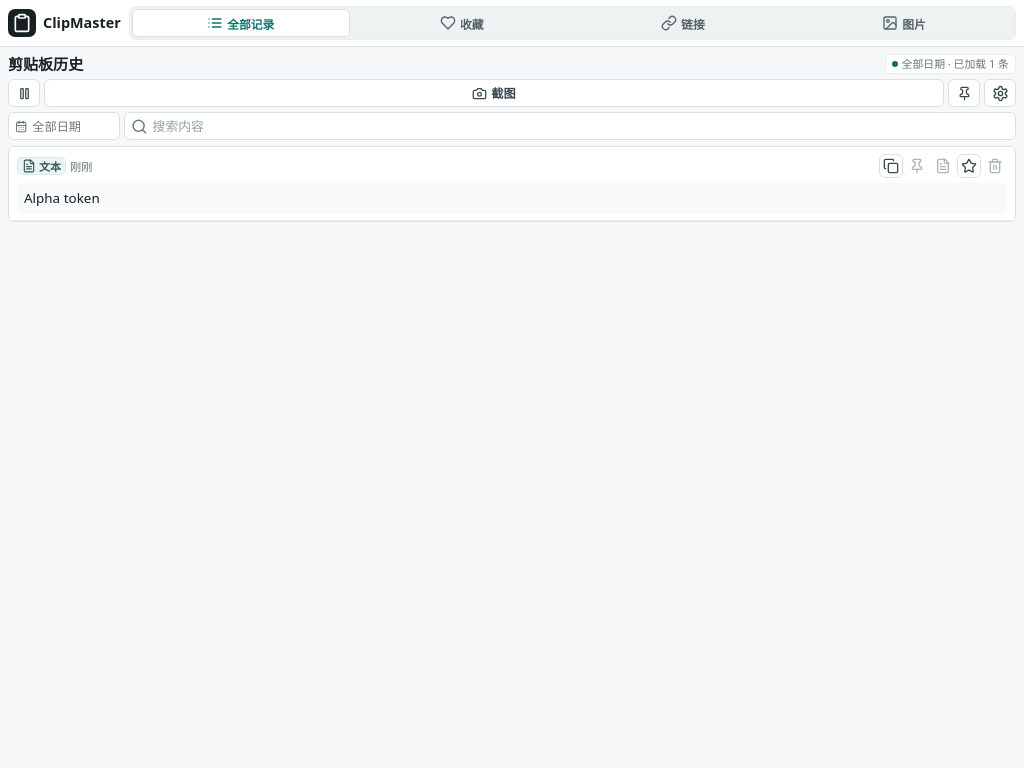
it: App UI › deletes ordinary records immediately without a confirmation dialog
This screenshot has width=1024, height=768.
Check: the button "Alpha token" is shown, box [17,183,1007,213]
Step 1. Click the button named "删除 Alpha token" → [995, 166], box [983,154,1007,178]
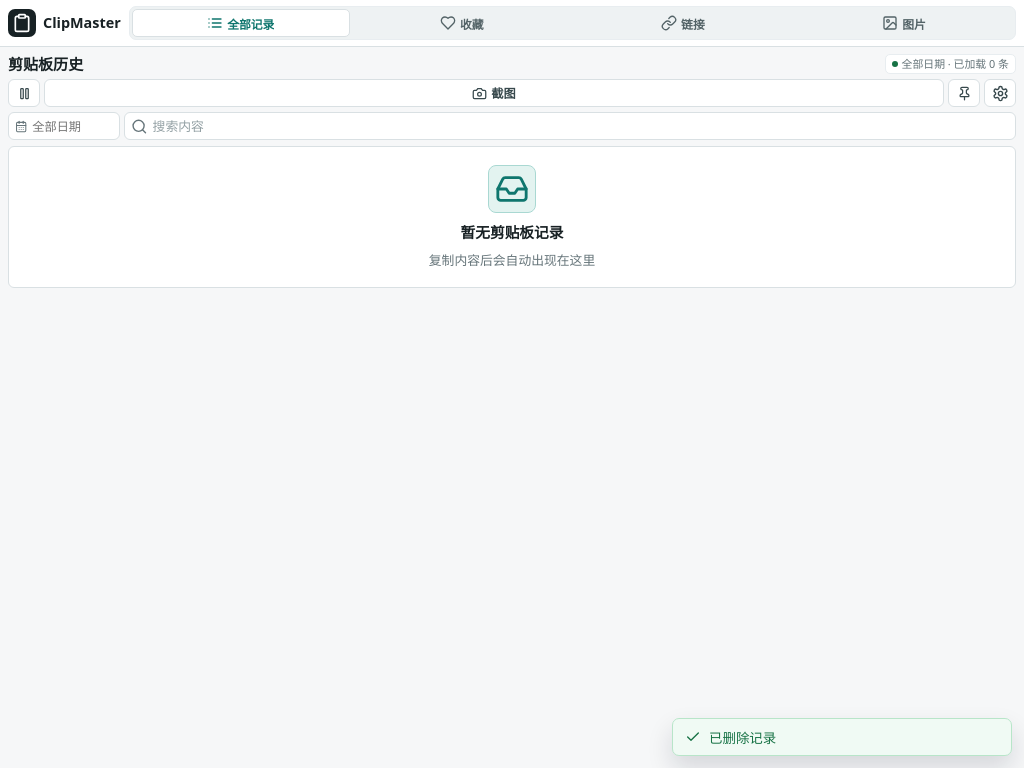
Check: the button "Alpha token" is gone
